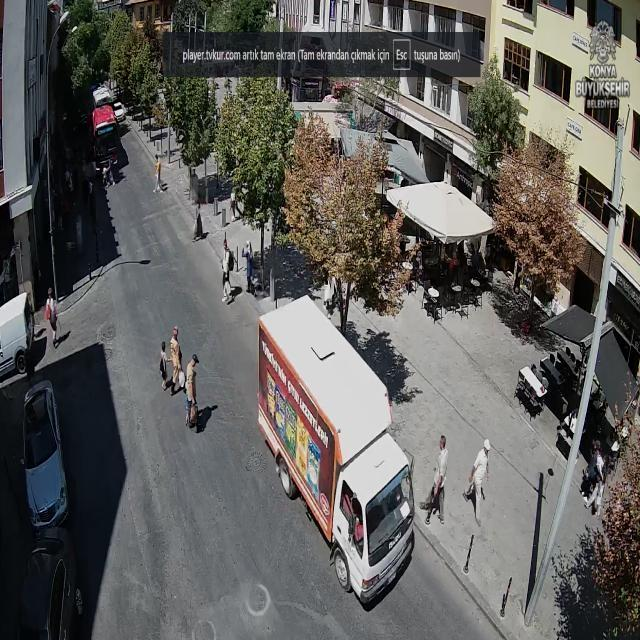Bus: (92, 104, 120, 168)
Car: (19, 380, 72, 528), (15, 531, 85, 640)
Truck: (258, 295, 415, 604)
